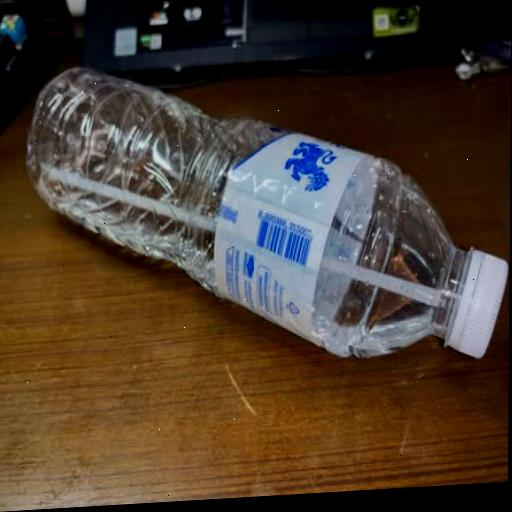bottle: (12, 23, 512, 441)
